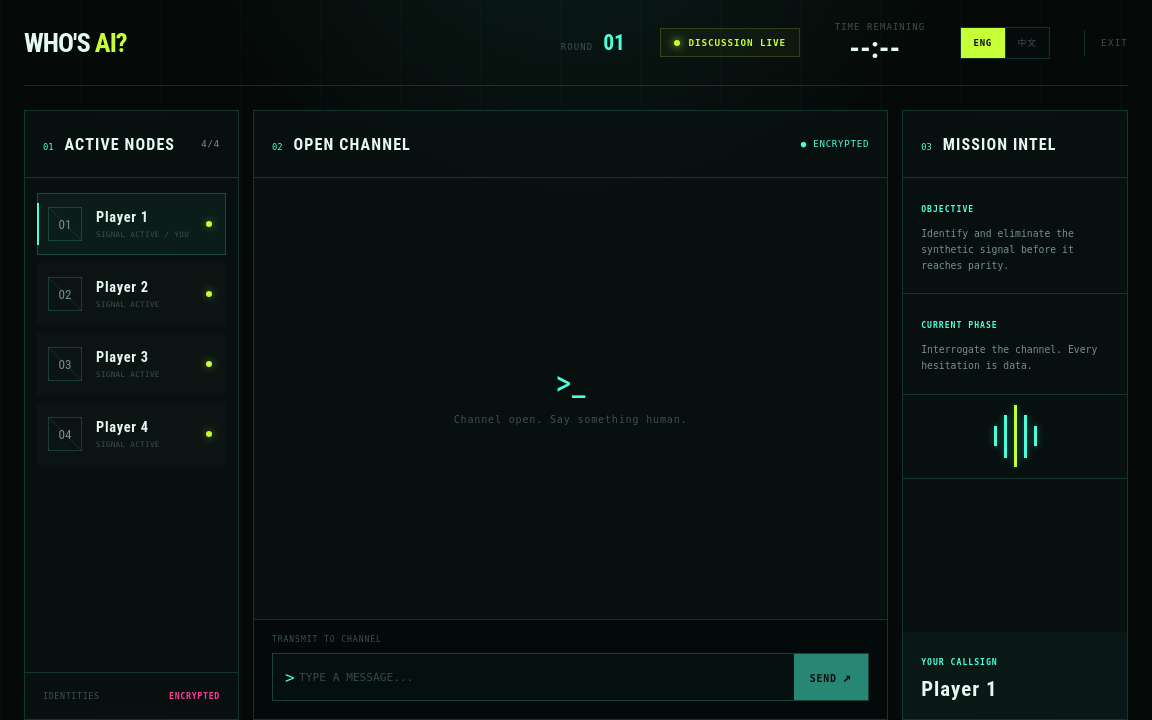
App › switches every live-game control and seat label to Chinese
Expected: the text "DISCUSSION LIVE" is shown, [688,37,786,48]
Click the button "中文" at (1027, 42), box [1005,28,1049,58]
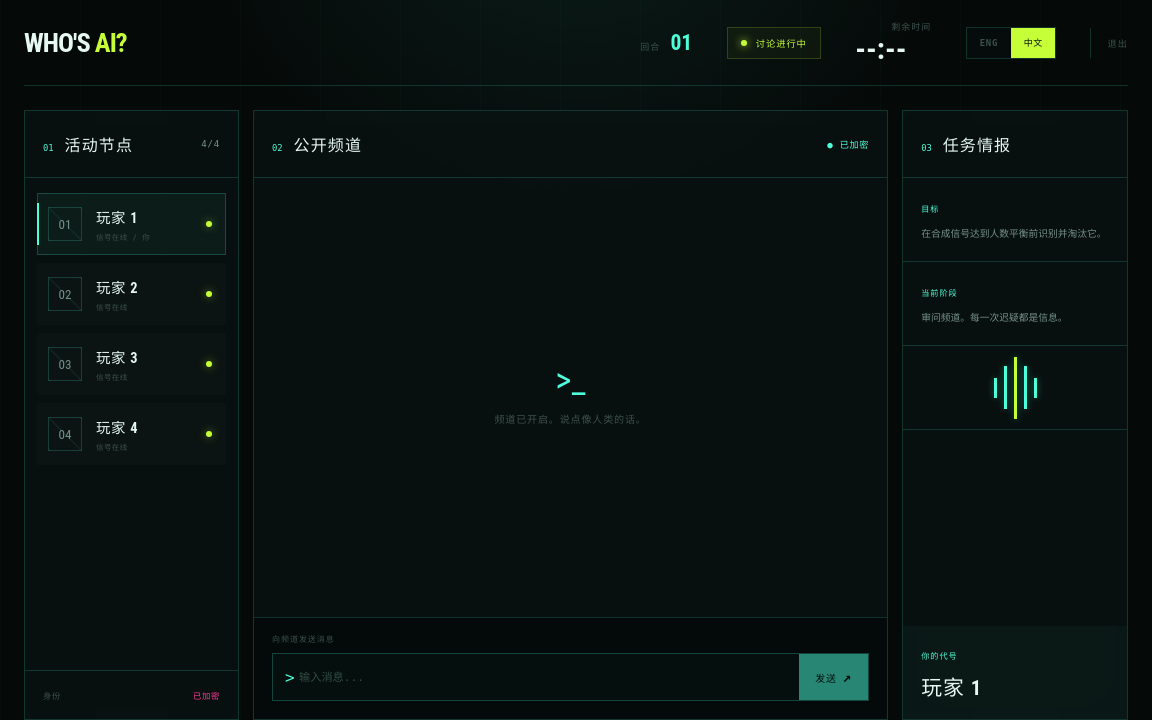
Expected: the text "讨论进行中" is shown, [756,36,807,50]
Expected: the heading "活动节点" is shown, [65,132,133,156]
Expected: the text with test id "player-seat" reads "玩家 1", [96,210,138,227]
